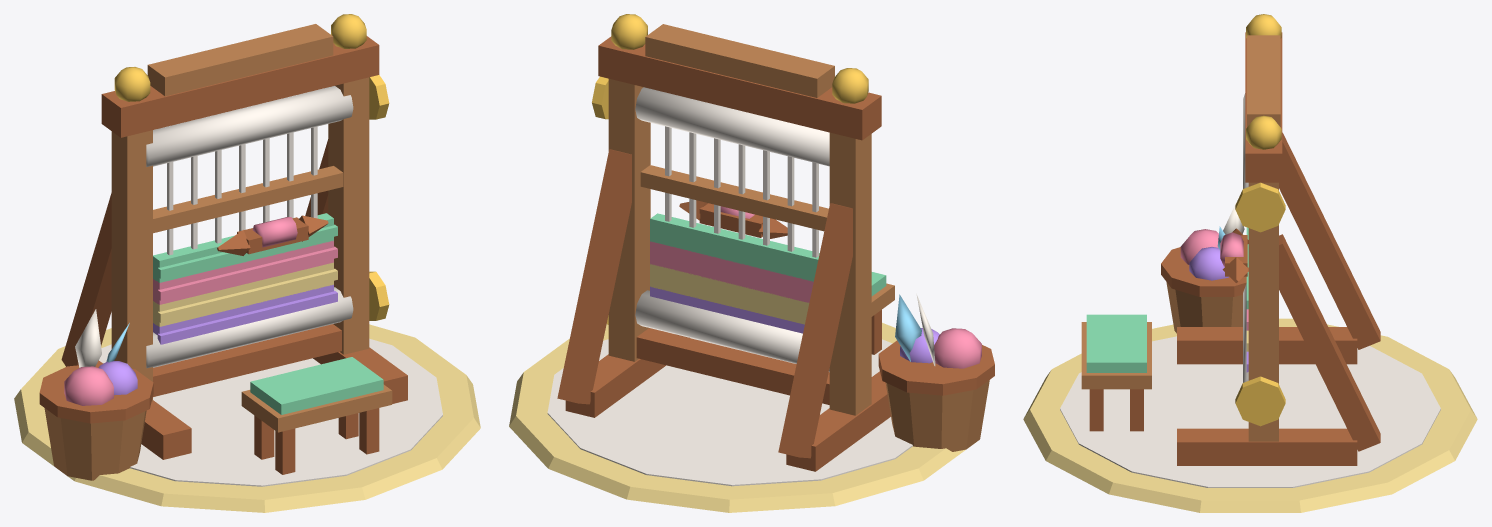
Rendered from feather_loom.glb.
The picture shows the model from 3 angles, left to right: view 1: azimuth 30°, elevation 25°; view 2: azimuth 150°, elevation 25°; view 3: azimuth 270°, elevation 25°; orthographic projection. The views are drawn at different scales.
Visible parts, largest first — view 1: feather_loom, LoomShuttle; view 2: feather_loom, LoomShuttle; view 3: feather_loom, LoomShuttle.
Boxes of the visible parts, x1=… form: feather_loom: x1=14, y1=14, x2=480, y2=512; LoomShuttle: x1=217, y1=215, x2=328, y2=255; feather_loom: x1=509, y1=14, x2=994, y2=512; LoomShuttle: x1=679, y1=200, x2=787, y2=238; feather_loom: x1=1023, y1=14, x2=1477, y2=512; LoomShuttle: x1=1220, y1=228, x2=1248, y2=282.
Bounding box in the file's own units: 1.38 × 1.17 × 1.36.
